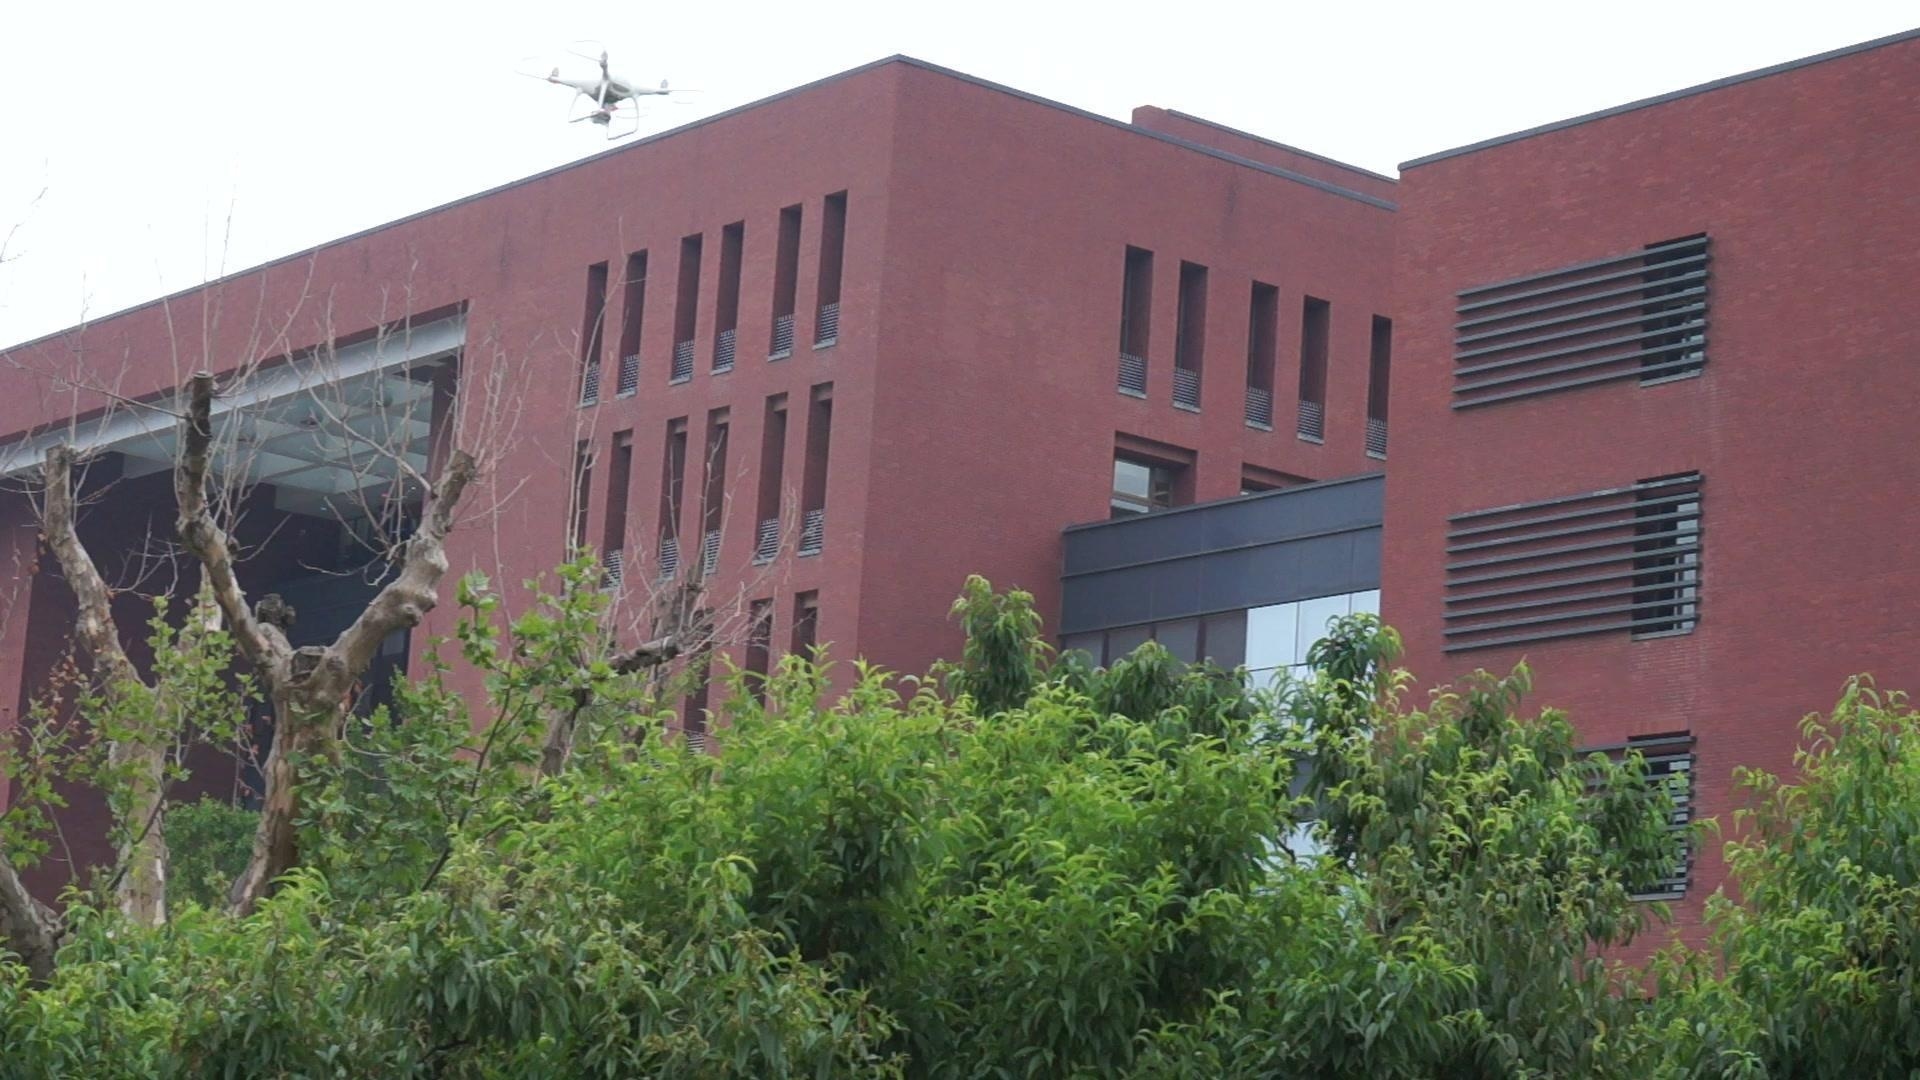UAV: (514, 41, 705, 142)
